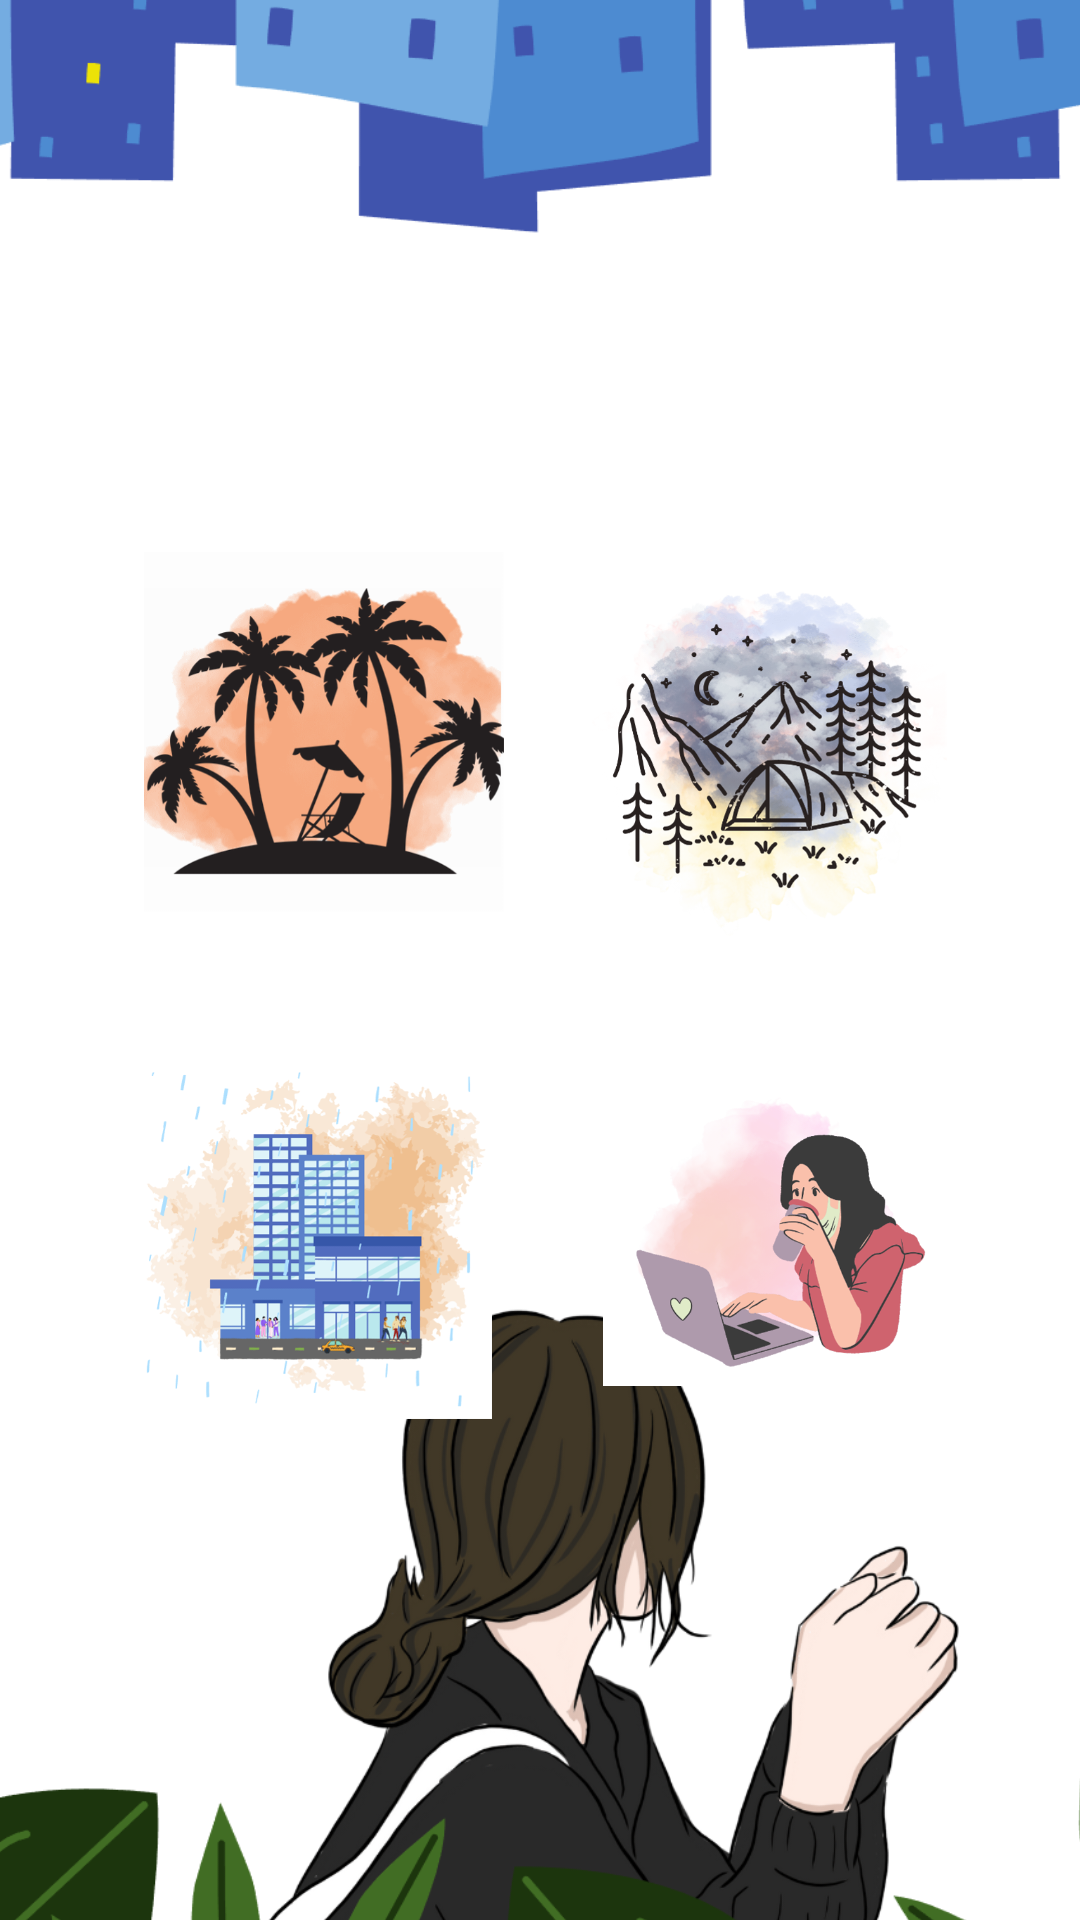

Icons on this 1080x1920 Android screen, each with the point to tap as [x,y]:
rains: [316,1239]
studying: [780,1236]
summer: [324,731]
